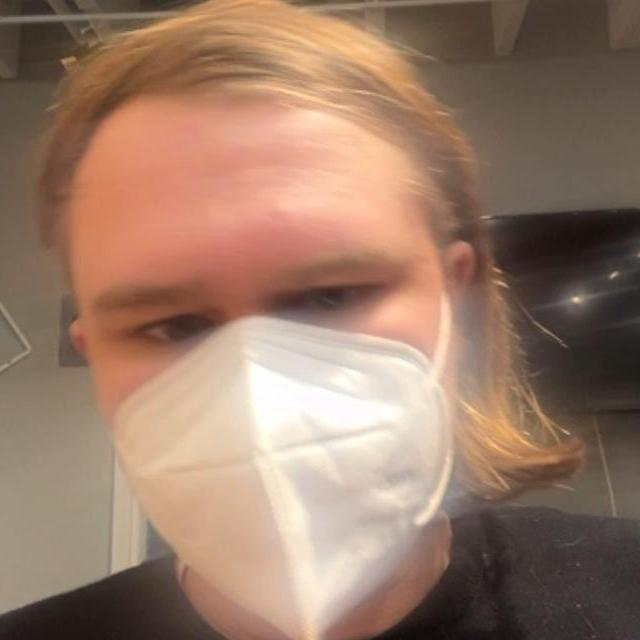Mask: (106, 316, 459, 640)
NO-Hardhat: (43, 0, 440, 247)
NO-Safety Vest: (0, 510, 640, 640)
Person: (0, 0, 640, 640)
